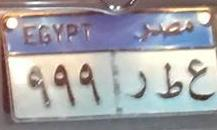9: (24, 61, 52, 109), (50, 61, 77, 108), (78, 61, 104, 105)
Taa: (155, 60, 184, 101)
ain: (187, 57, 215, 104)
raa: (123, 68, 147, 101)
